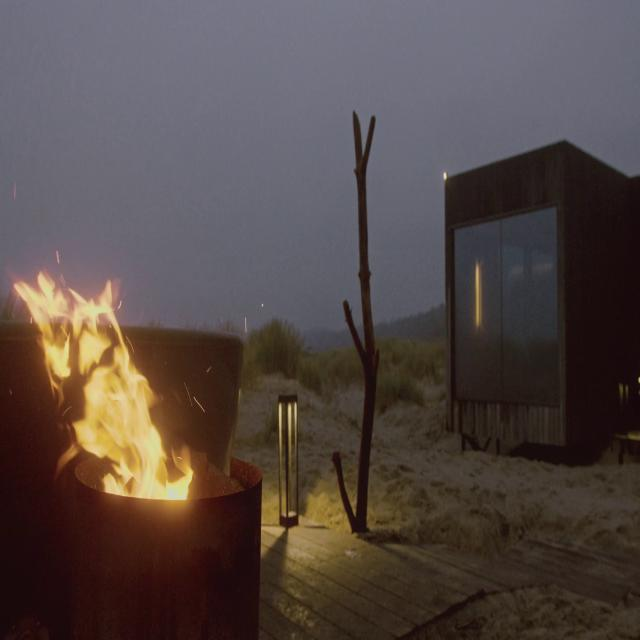Fire: (13, 249, 194, 503)
